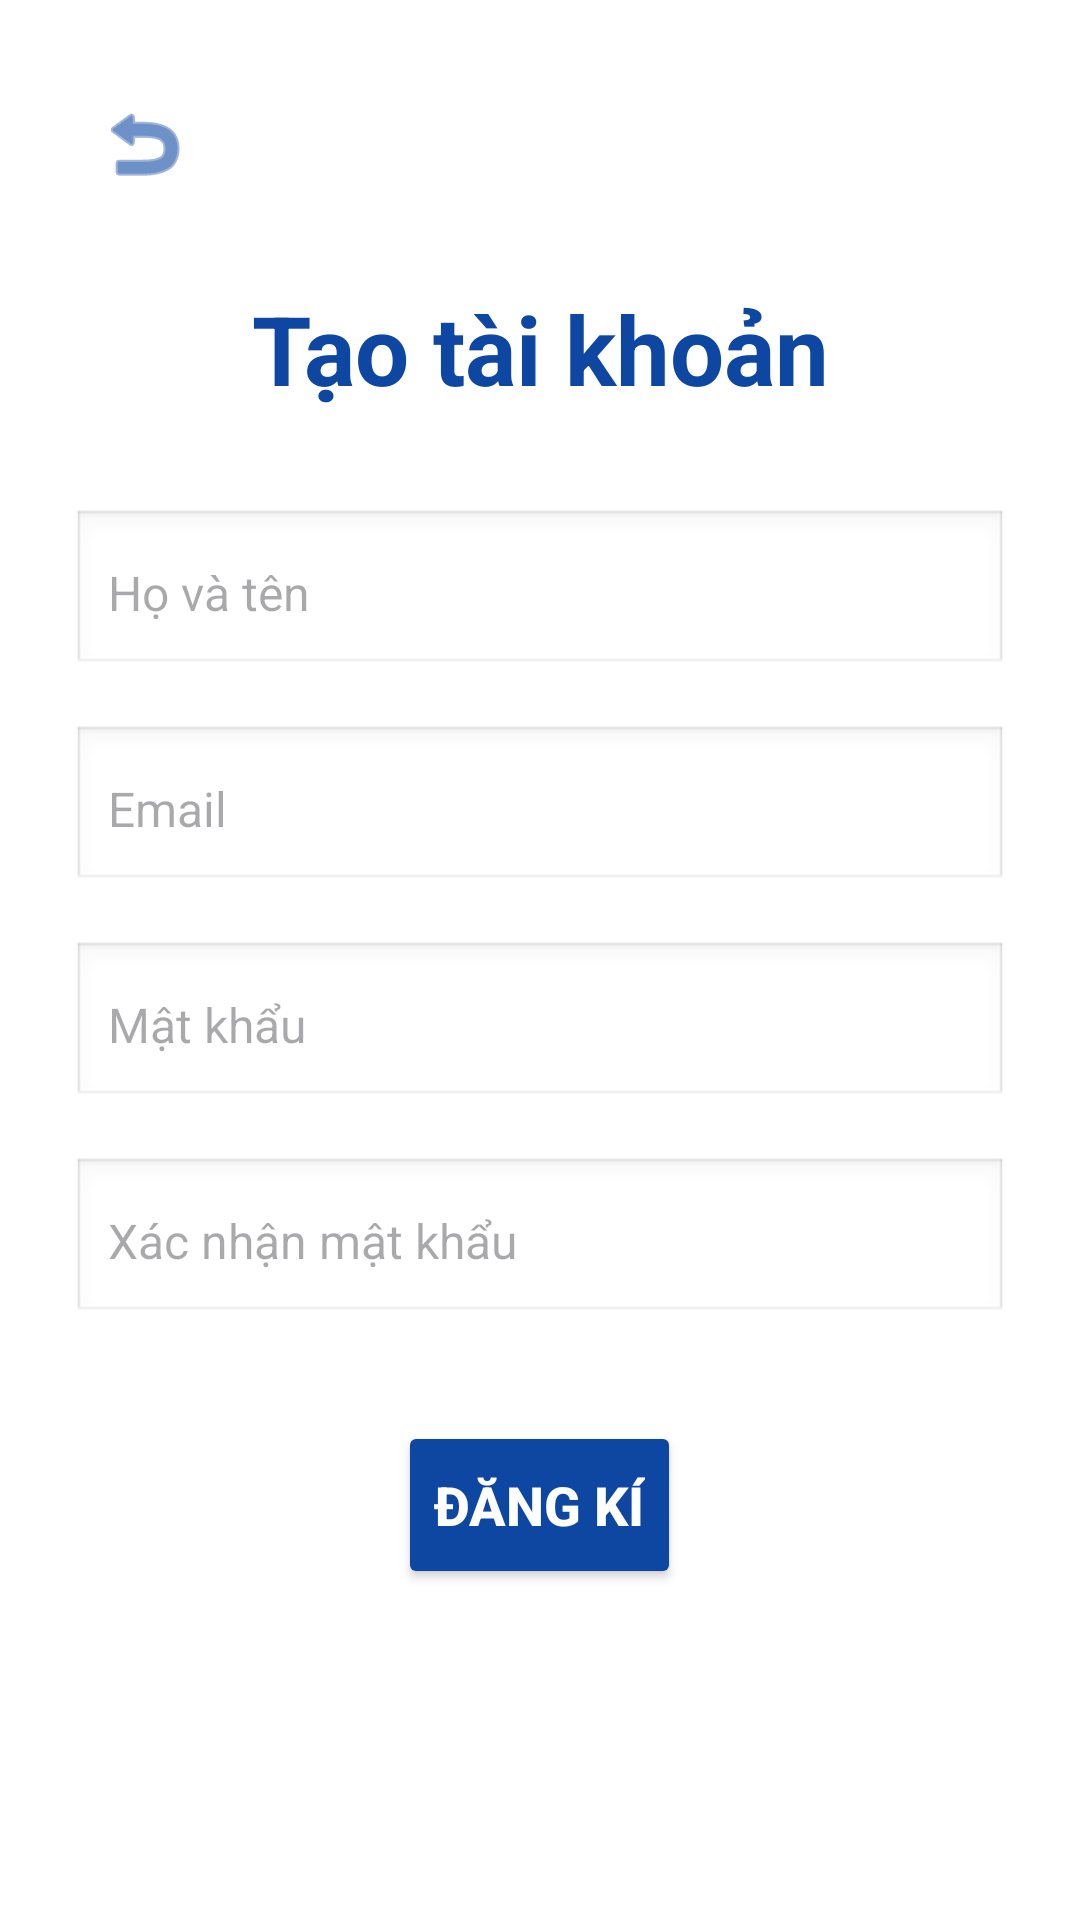

Icons on this 1080w x 1920h Android screen, each with its box as {"left": x1, "top": y1, "right": x2, "bottom": y2}:
Back: {"left": 111, "top": 113, "right": 180, "bottom": 176}
